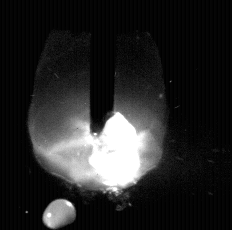arame: (91, 0, 116, 135)
poca: (28, 0, 168, 230)
